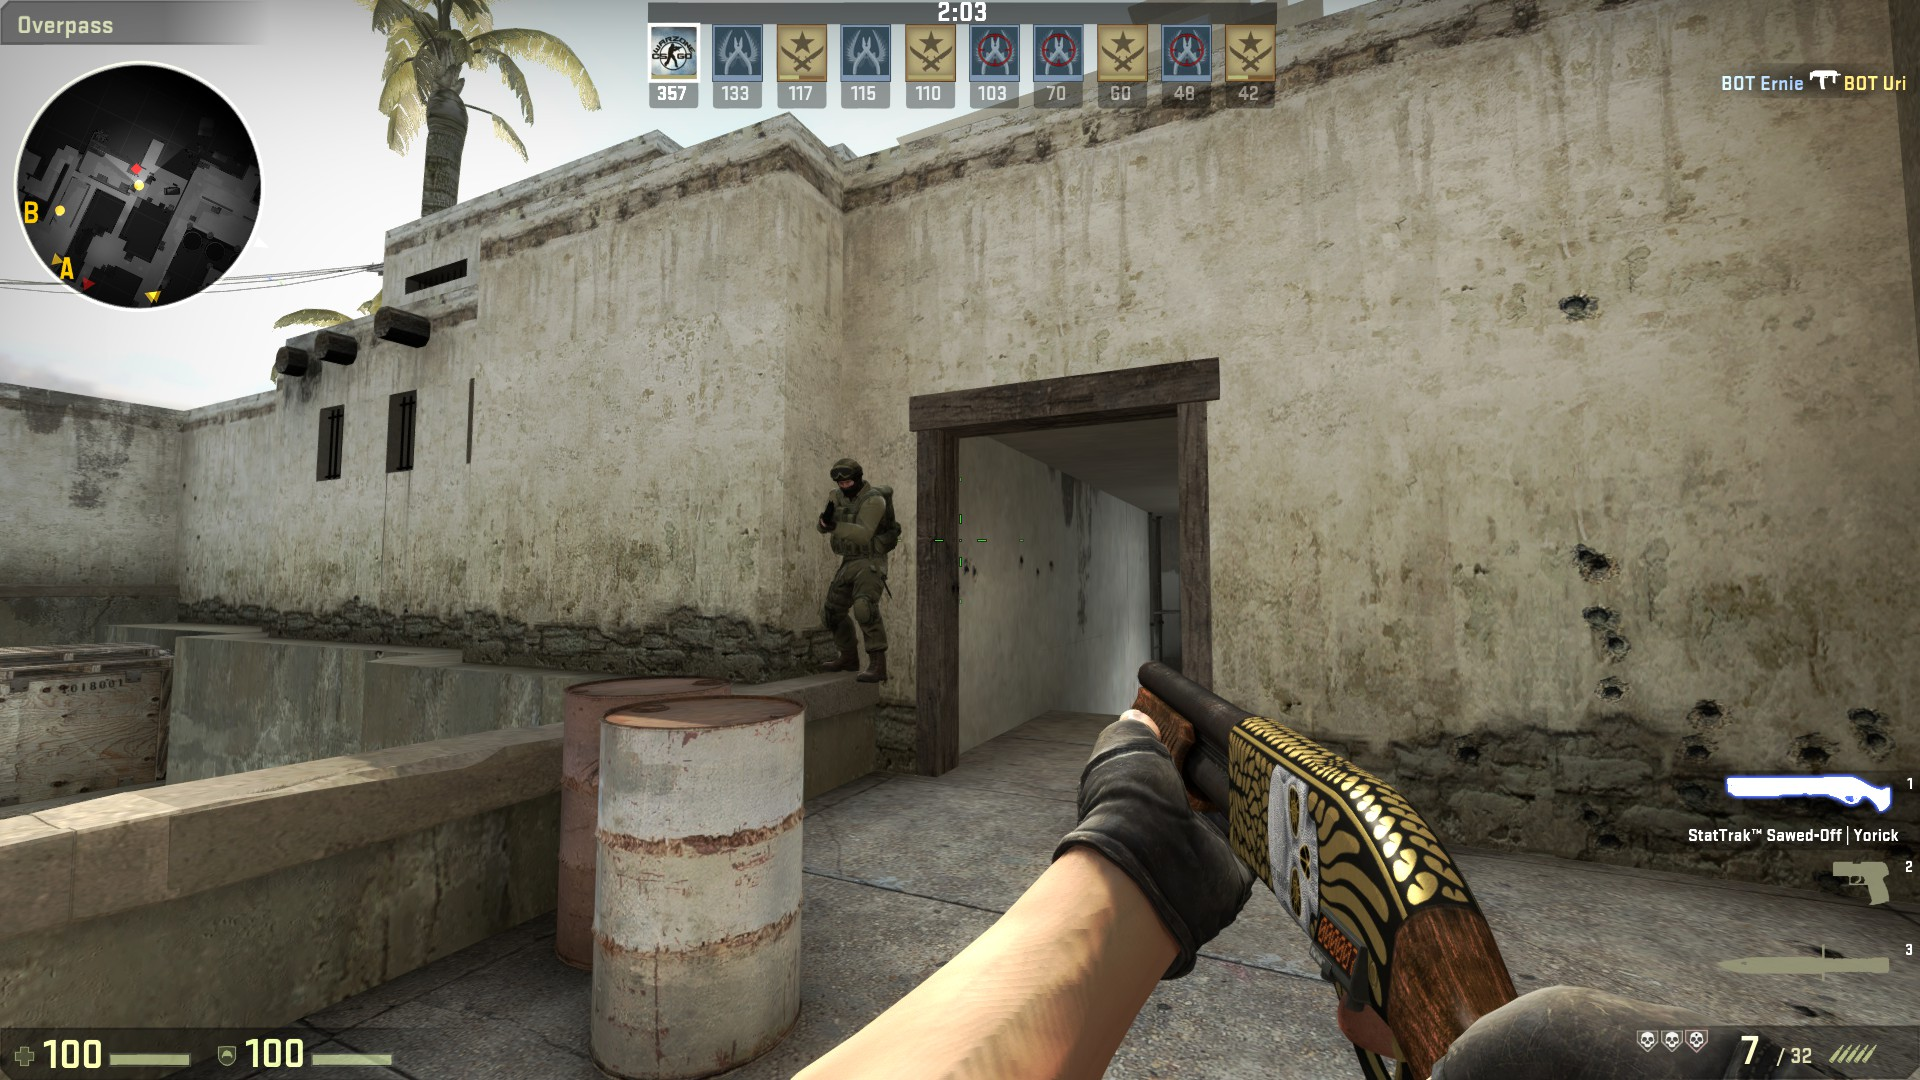c: (818, 456, 898, 684)
ch: (829, 458, 865, 498)
